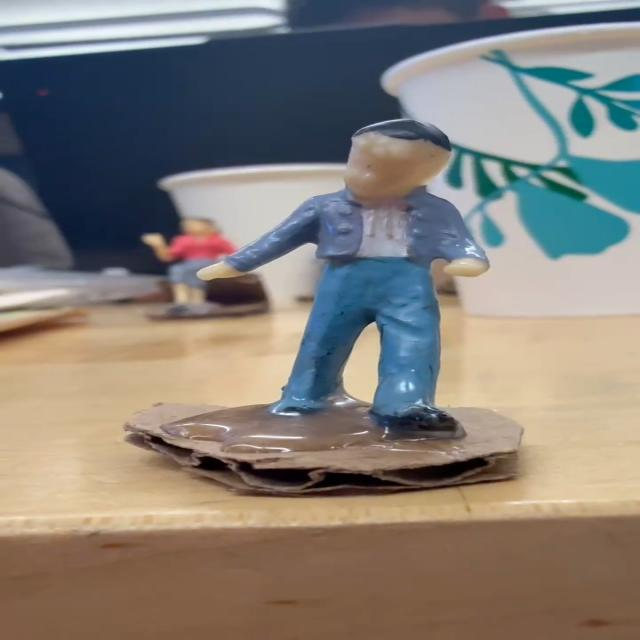Authorized: (192, 118, 492, 444)
